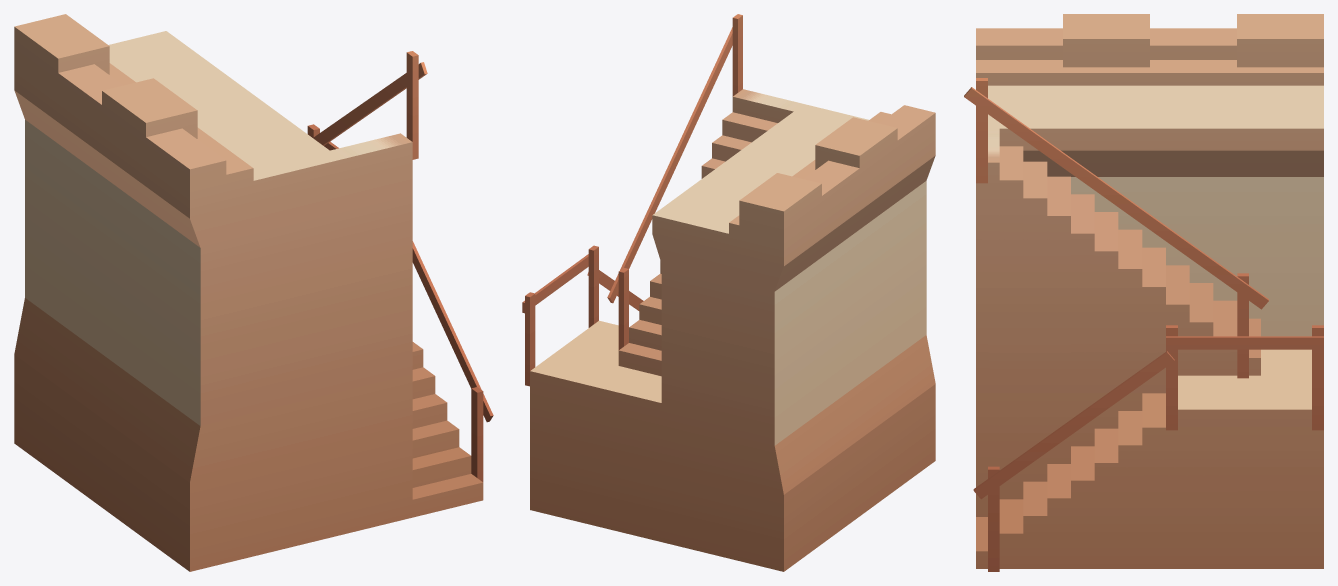
Rendered from wall-narrow-stairs-rail.glb.
The picture shows the model from 3 angles, left to right: view 1: azimuth 30°, elevation 25°; view 2: azimuth 150°, elevation 25°; view 3: azimuth 270°, elevation 25°; orthographic projection. The views are drawn at different scales.
Visible parts, largest first — view 1: wall-narrow-stairs-rail; view 2: wall-narrow-stairs-rail; view 3: wall-narrow-stairs-rail.
Part boxes in pixels (x1,y1,x2,y2): wall-narrow-stairs-rail: [14, 14, 493, 571]; wall-narrow-stairs-rail: [522, 14, 935, 571]; wall-narrow-stairs-rail: [964, 14, 1323, 571].
Bounding box in the file's own units: 0.9949 × 1.45 × 1.03.
Materials: 1 (1 with a texture image).
